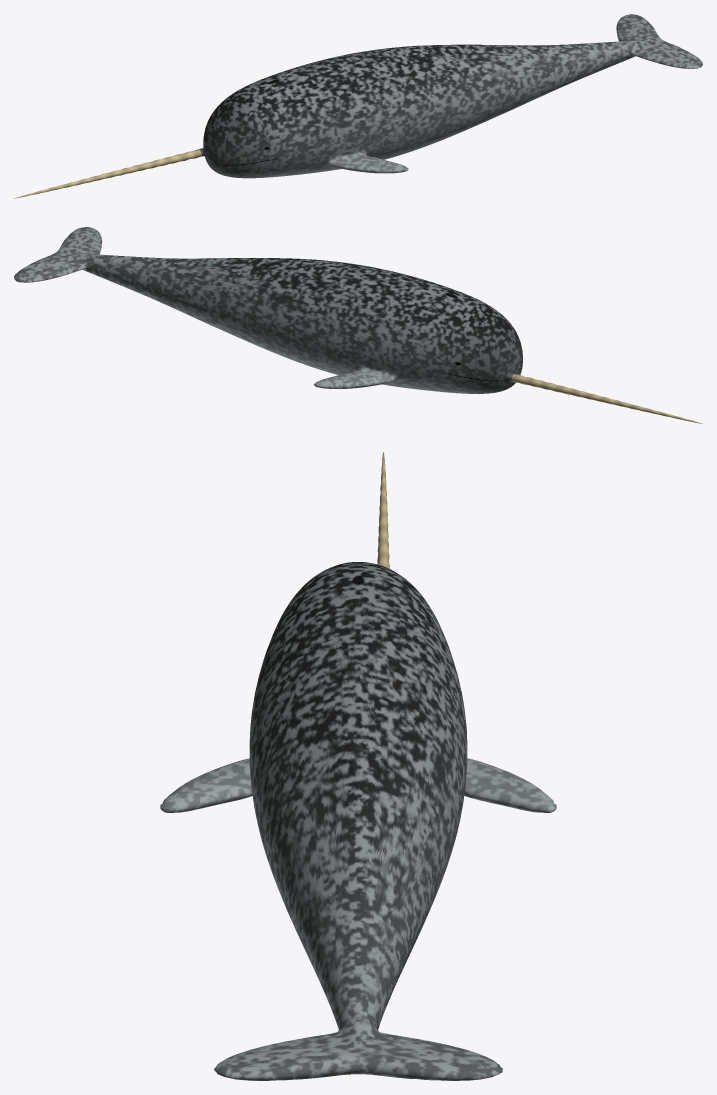
3 views of the same model, one above another, from view 1: azimuth 30°, elevation 25°; view 2: azimuth 150°, elevation 25°; view 3: azimuth 270°, elevation 25° (orthographic). The views are drawn at different scales.
Parts seen in each view (by area): view 1: NEW407_Whole_male_narwhal_LOD0; view 2: NEW407_Whole_male_narwhal_LOD0; view 3: NEW407_Whole_male_narwhal_LOD0.
Part boxes in pixels (<box>): NEW407_Whole_male_narwhal_LOD0: <box>14,14,702,198</box>; NEW407_Whole_male_narwhal_LOD0: <box>14,227,702,423</box>; NEW407_Whole_male_narwhal_LOD0: <box>160,452,556,1080</box>.
Size of the model in its own units: 6.3 by 0.9487 by 1.66.
Materials: 1 (1 with a texture image).
